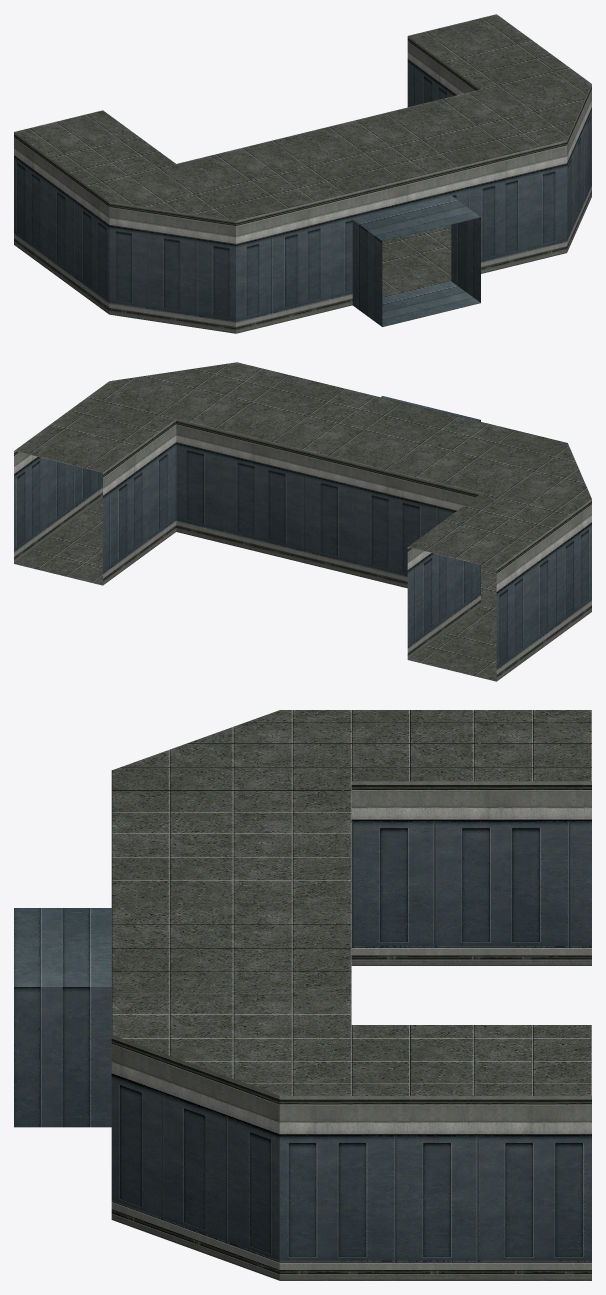
File: thm_corl_skyskraper_s02_r1_mesh_foyer0.fbx
3 views of the same model, one above another, from view 1: azimuth 30°, elevation 25°; view 2: azimuth 150°, elevation 25°; view 3: azimuth 270°, elevation 25° (orthographic). The views are drawn at different scales.
Visible parts, largest first — view 1: mesh_node; view 2: mesh_node; view 3: mesh_node.
Part boxes in pixels (box(x1,y1,x2,y2)): mesh_node: box(14, 14, 591, 333); mesh_node: box(14, 362, 591, 681); mesh_node: box(14, 710, 591, 1280).
Size of the model in its own units: 19 by 4.25 by 12.03.
